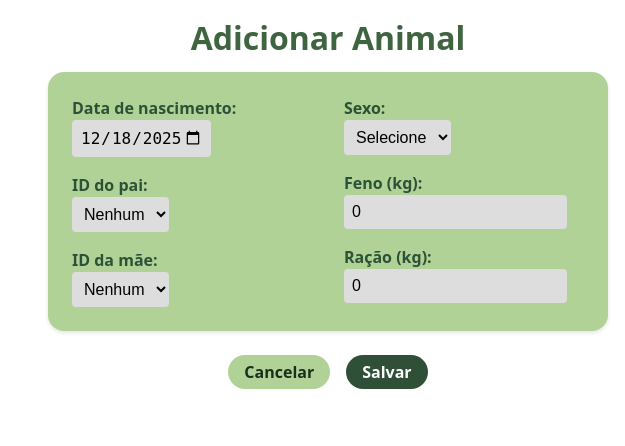
Test case: AnimalCreate page › shows error if farm_id is missing
Expected: the heading "Adicionar Animal" is shown, [191,16,465,59]
Select "Fêmea" in the dropdown labelled "Sexo:" at coordinates (398, 137), box [344,120,451,155]
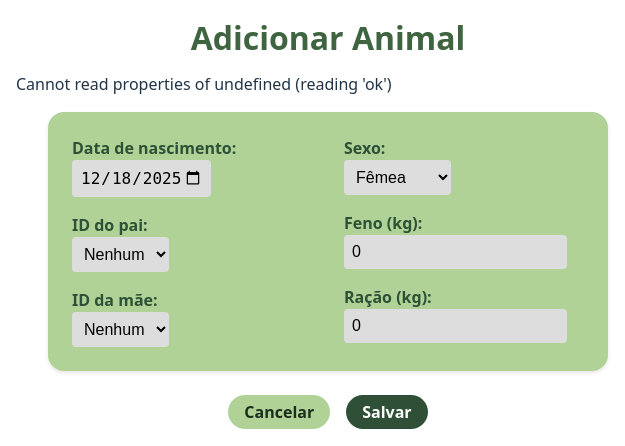
Click the button "Salvar" at coordinates (387, 412), box [346,395,428,429]
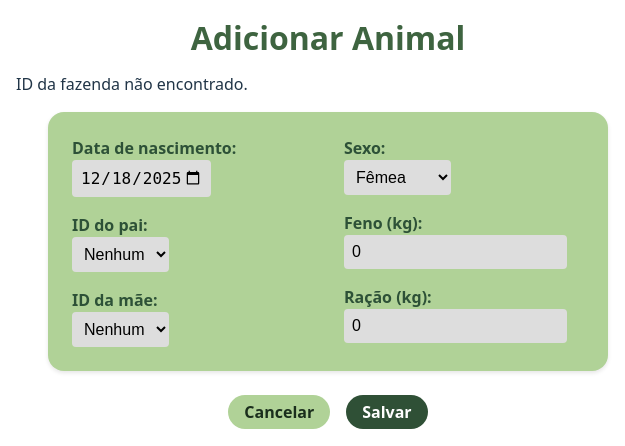
Now the text "ID da fazenda não encontrado." is shown, box [16,73,248,95]
